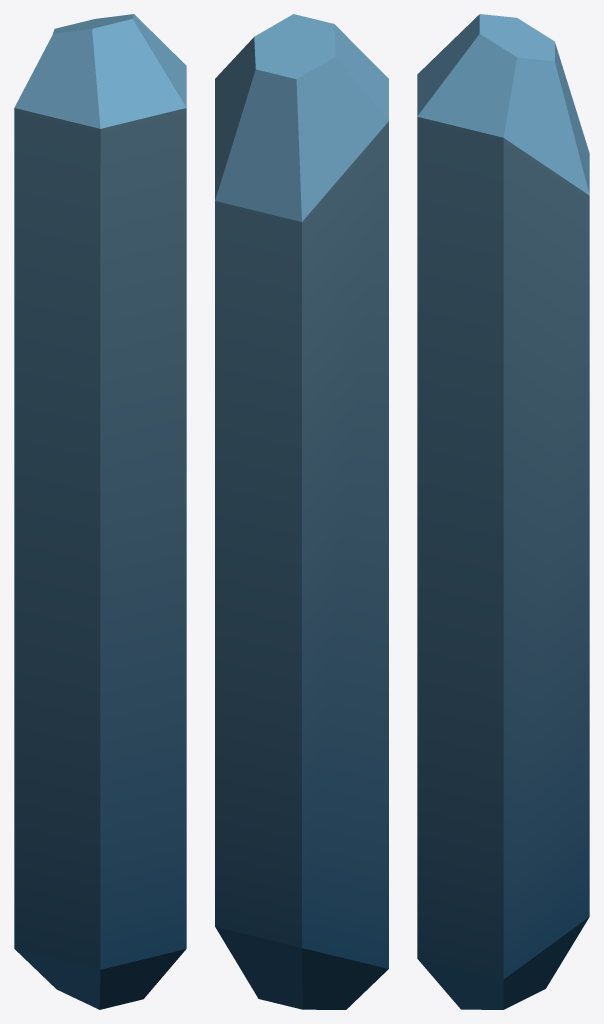
Rendered from geology-crystals-icecrystal_v12.fbx.
3 views of the same model, side by side, from view 1: azimuth 30°, elevation 25°; view 2: azimuth 150°, elevation 25°; view 3: azimuth 270°, elevation 25° (orthographic).
Parts seen in each view (by area): view 1: IceCrystal_v12; view 2: IceCrystal_v12; view 3: IceCrystal_v12.
Part boxes in pixels (box(x1,y1,x2,y2)): IceCrystal_v12: box(14, 14, 186, 1009); IceCrystal_v12: box(215, 14, 388, 1009); IceCrystal_v12: box(417, 14, 589, 1009).
Size of the model in its own units: 1.48 by 7.99 by 1.28.
